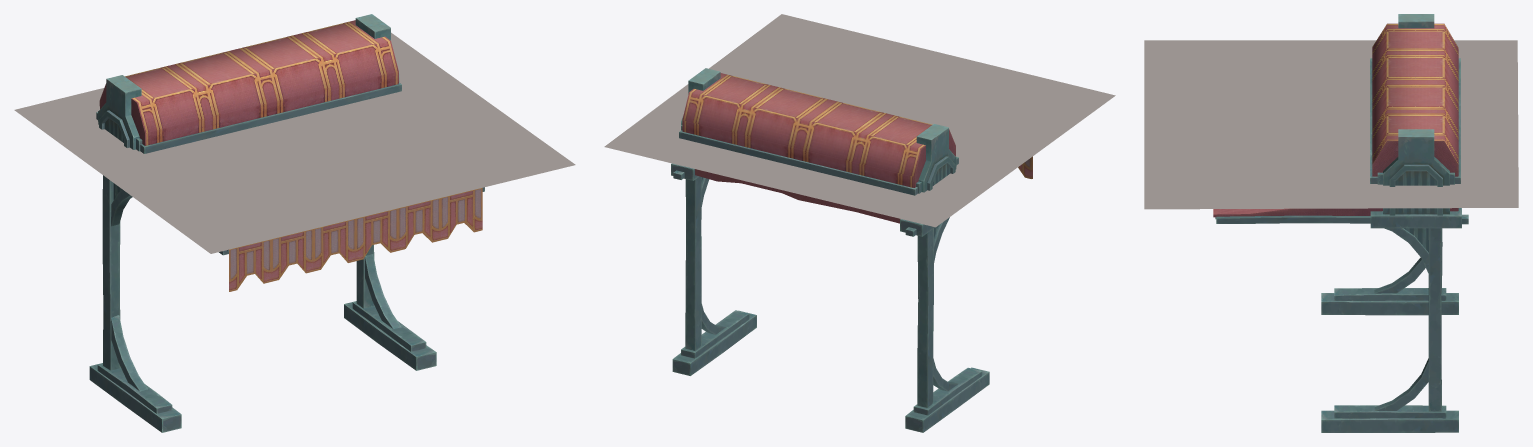
The model's file is Homeworld_Exterior_Fd_Build_Prop_RedTanwei_01_Lod0.fbx.
3 renders of one model, left to right at view 1: azimuth 30°, elevation 25°; view 2: azimuth 150°, elevation 25°; view 3: azimuth 270°, elevation 25°, orthographic. The views are drawn at different scales.
Visible parts, largest first — view 1: Area_Fd_Prop_FDC_Tanwei_01_Ocl, Area_Fd_Prop_FDC_Tanwei_02_Lod0; view 2: Area_Fd_Prop_FDC_Tanwei_01_Ocl, Area_Fd_Prop_FDC_Tanwei_02_Lod0; view 3: Area_Fd_Prop_FDC_Tanwei_01_Ocl, Area_Fd_Prop_FDC_Tanwei_02_Lod0.
Part boxes in pixels (x1,y1,x2,y2): Area_Fd_Prop_FDC_Tanwei_01_Ocl: (14,32,575,253); Area_Fd_Prop_FDC_Tanwei_02_Lod0: (89,14,484,432); Area_Fd_Prop_FDC_Tanwei_01_Ocl: (604,14,1115,227); Area_Fd_Prop_FDC_Tanwei_02_Lod0: (671,68,1032,432); Area_Fd_Prop_FDC_Tanwei_01_Ocl: (1144,40,1518,209); Area_Fd_Prop_FDC_Tanwei_02_Lod0: (1213,14,1468,432).
Size of the model in its own units: 5.02 by 4.07 by 4.7.
